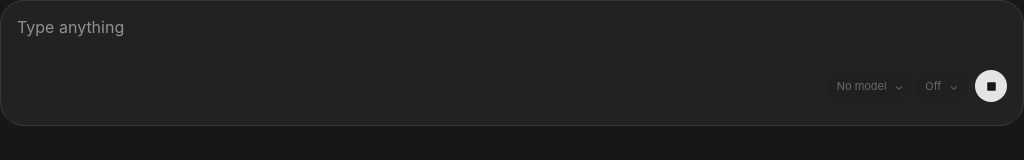
Scenario: ChatComposer › uses Stop while running with an empty draft and Follow up with text
Expected: the button named "Stop" is shown, 975,70 -> 1007,102
In the text box named "Chat message": (512, 37) 17,15 -> 1007,59, type "next request"
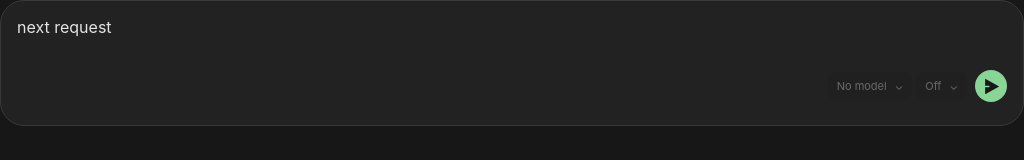
Now the button named "Follow up" is shown, box 975,70 -> 1007,102
Now the button "Stop" is gone
